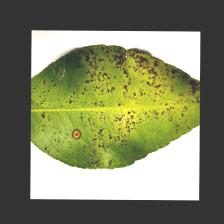canker: (53, 50, 173, 147)
